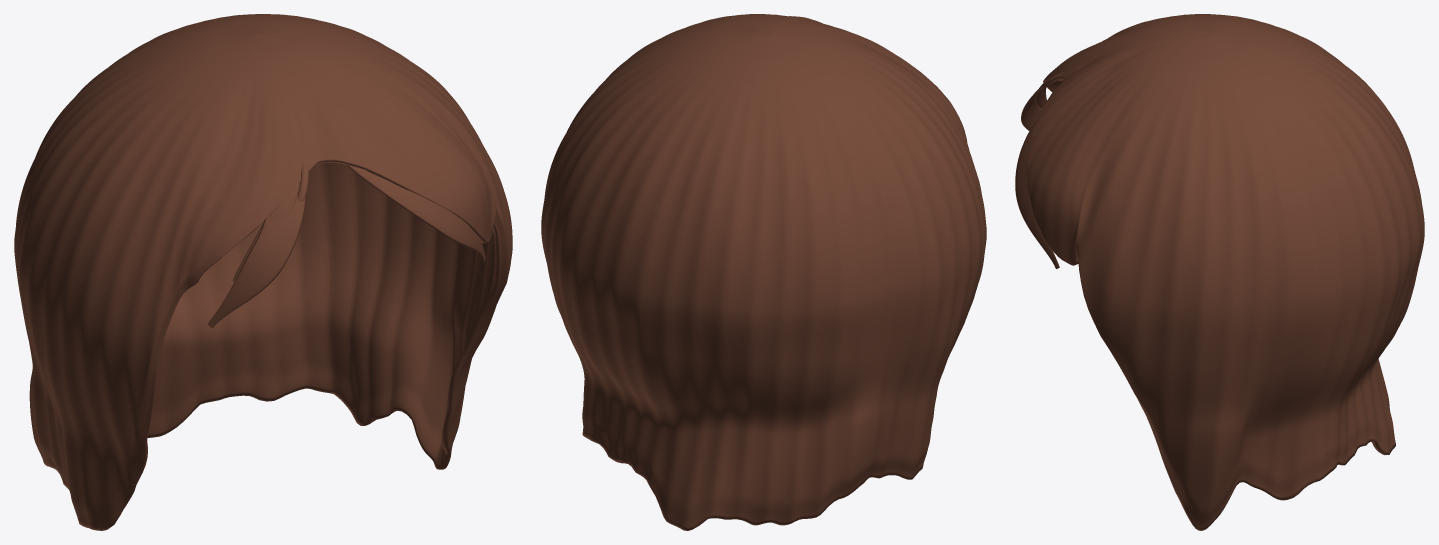
File: curtain.glb
3 renders of one model, left to right at view 1: azimuth 30°, elevation 25°; view 2: azimuth 150°, elevation 25°; view 3: azimuth 270°, elevation 25°, orthographic. The views are drawn at different scales.
Visible parts, largest first — view 1: Hair / curtain fringe study, Hair / feathered accent 1, Hair / feathered accent 4, Hair / feathered accent 2; view 2: Hair / curtain fringe study; view 3: Hair / curtain fringe study, Hair / feathered accent 4, Hair / feathered accent 1.
Boxes of the visible parts, x1=… form: Hair / curtain fringe study: x1=14, y1=14, x2=512, y2=530; Hair / feathered accent 1: x1=207, y1=181, x2=306, y2=328; Hair / feathered accent 4: x1=347, y1=165, x2=485, y2=261; Hair / feathered accent 2: x1=232, y1=182, x2=300, y2=281; Hair / curtain fringe study: x1=541, y1=14, x2=986, y2=530; Hair / curtain fringe study: x1=1026, y1=14, x2=1424, y2=530; Hair / feathered accent 4: x1=1015, y1=120, x2=1059, y2=268; Hair / feathered accent 1: x1=1021, y1=78, x2=1059, y2=130.
Bounding box in the file's own units: 0.8388 × 0.8786 × 0.7763.
